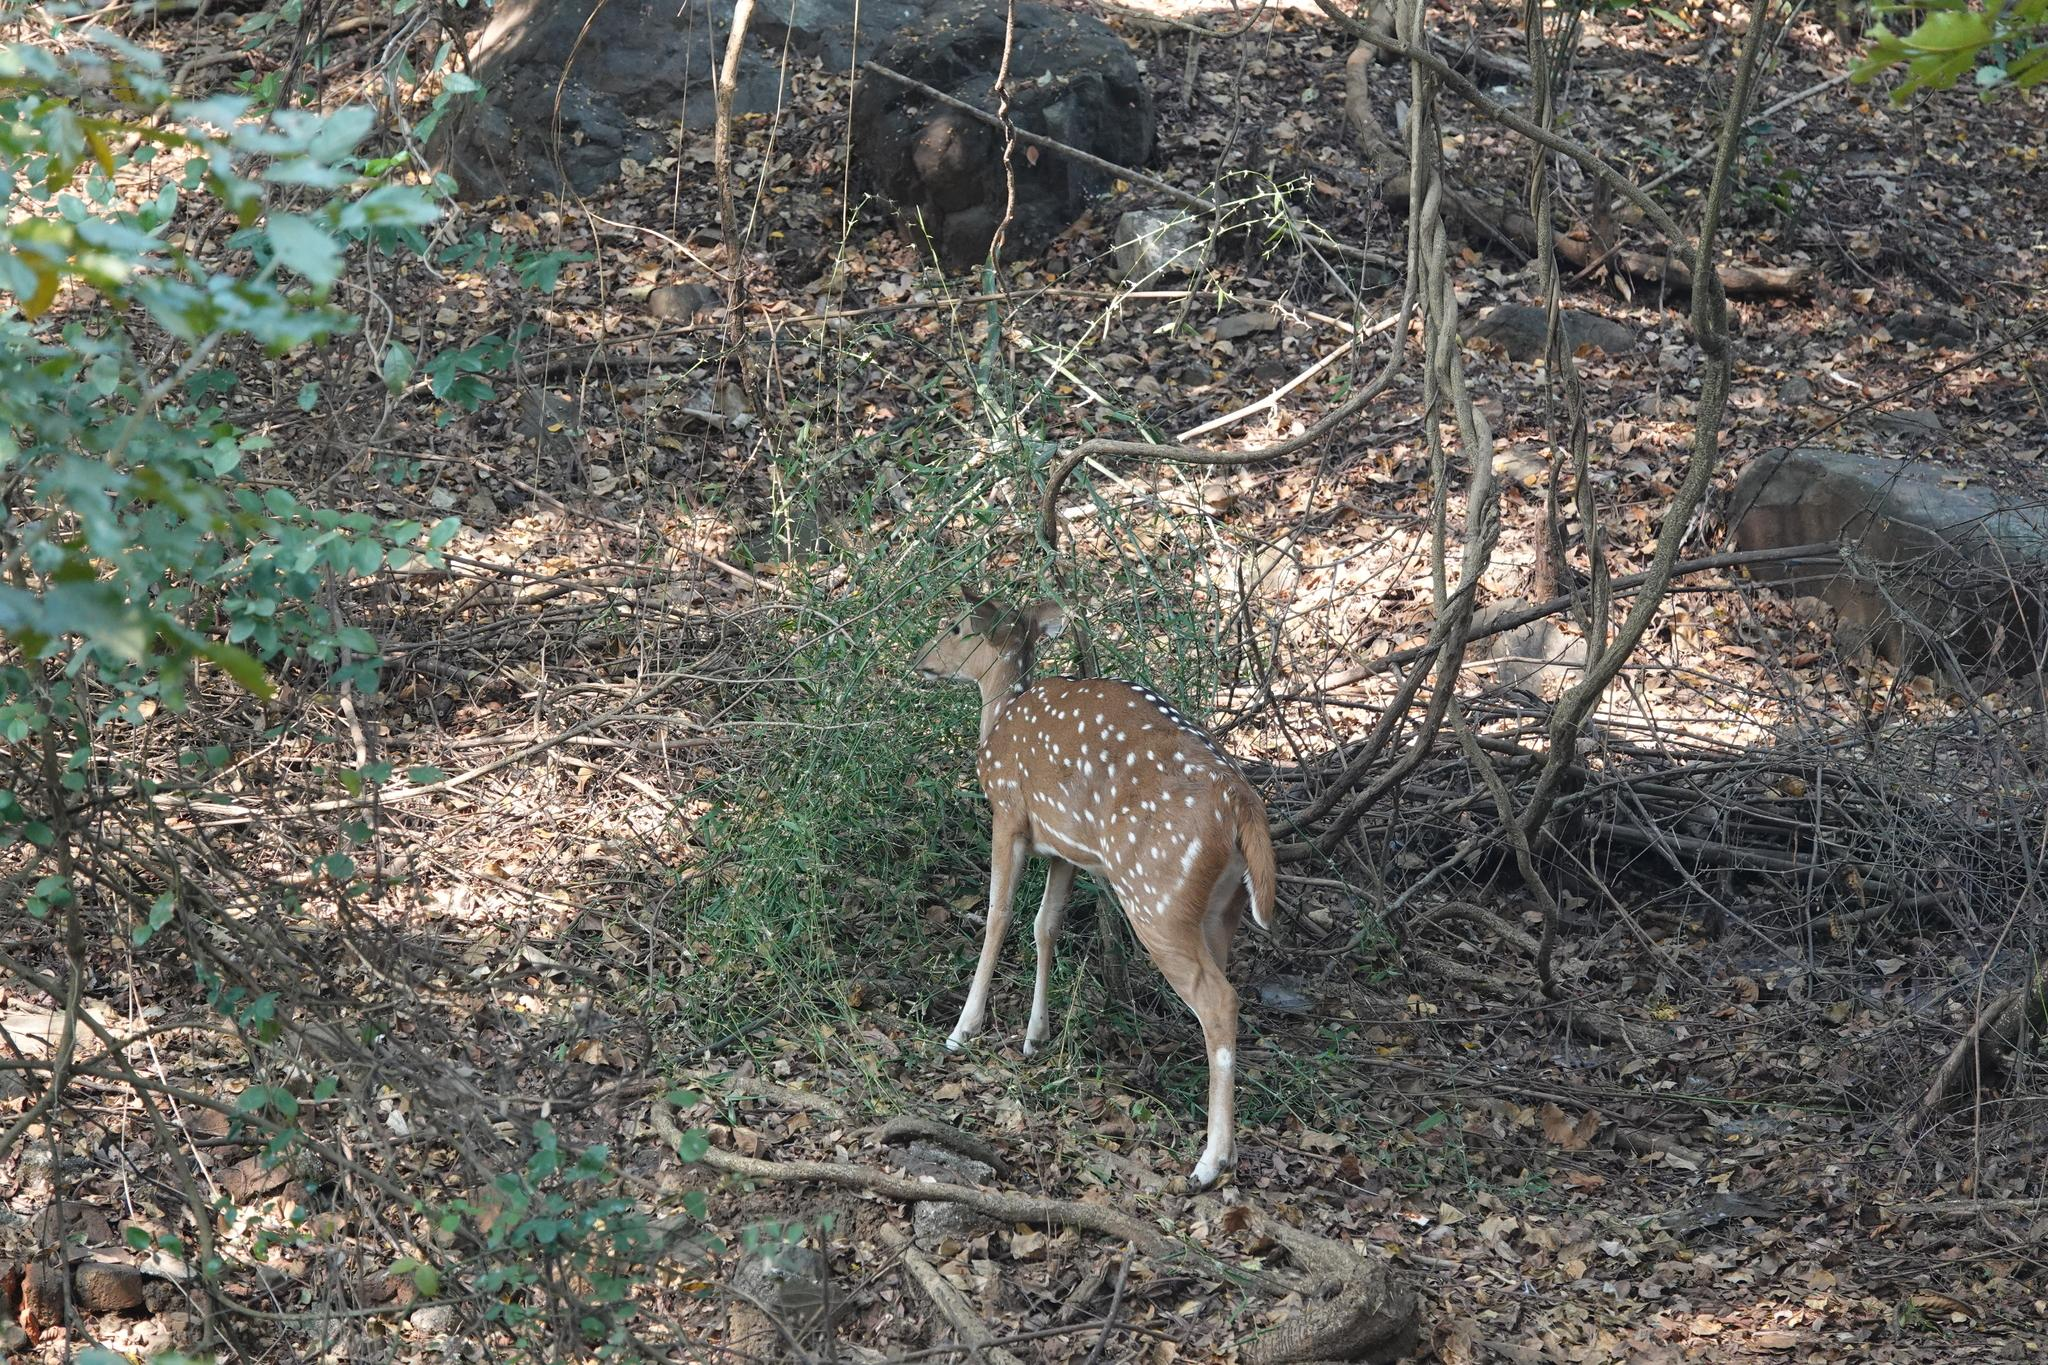Deer: (917, 602, 1274, 1187)
